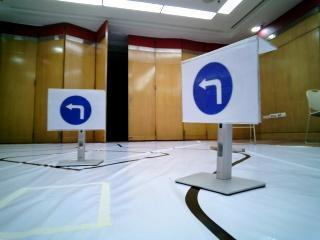left: (182, 64, 257, 121), (50, 94, 105, 132)
